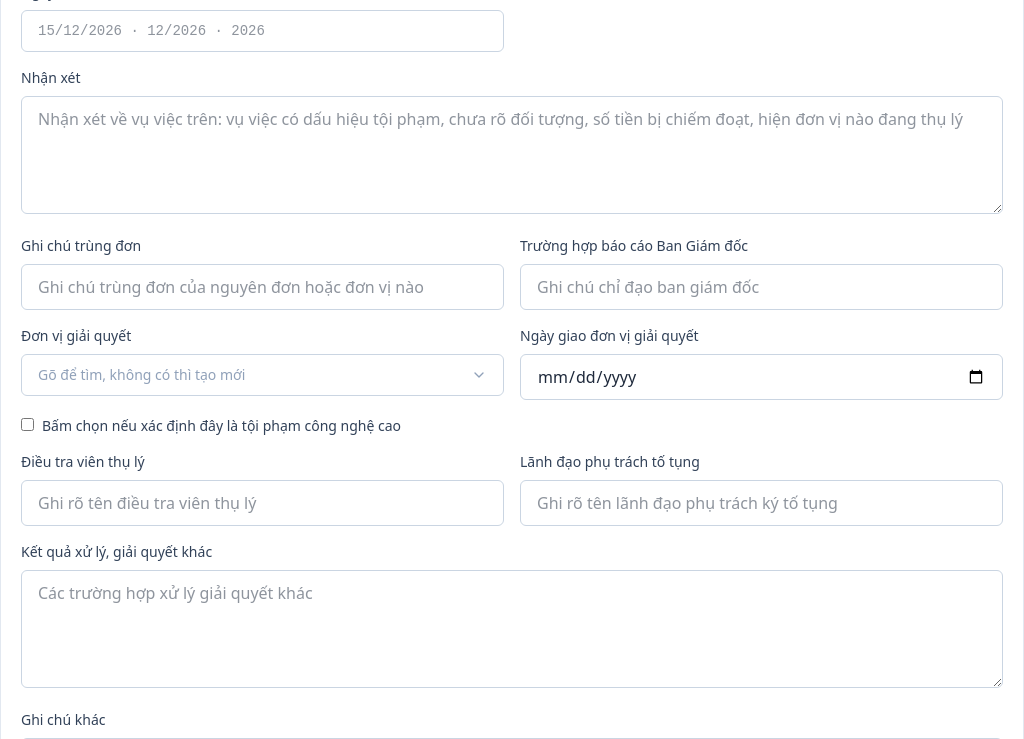
Ủy thác điều tra — tương tác như Đơn thư › cho phép cán bộ có quyền tạo Vụ án tạo nhanh đơn vị dù không có quyền tạo Đơn thư
The width and height of the screenshot is (1024, 739).
(page scrolled)
What coordinates should you click on to do the following:
click the dropdown with test id "field-supervisingUnit-trigger"
I would click on:
 (262, 375)
Its box is x1=21 y1=354 x2=504 y2=396.
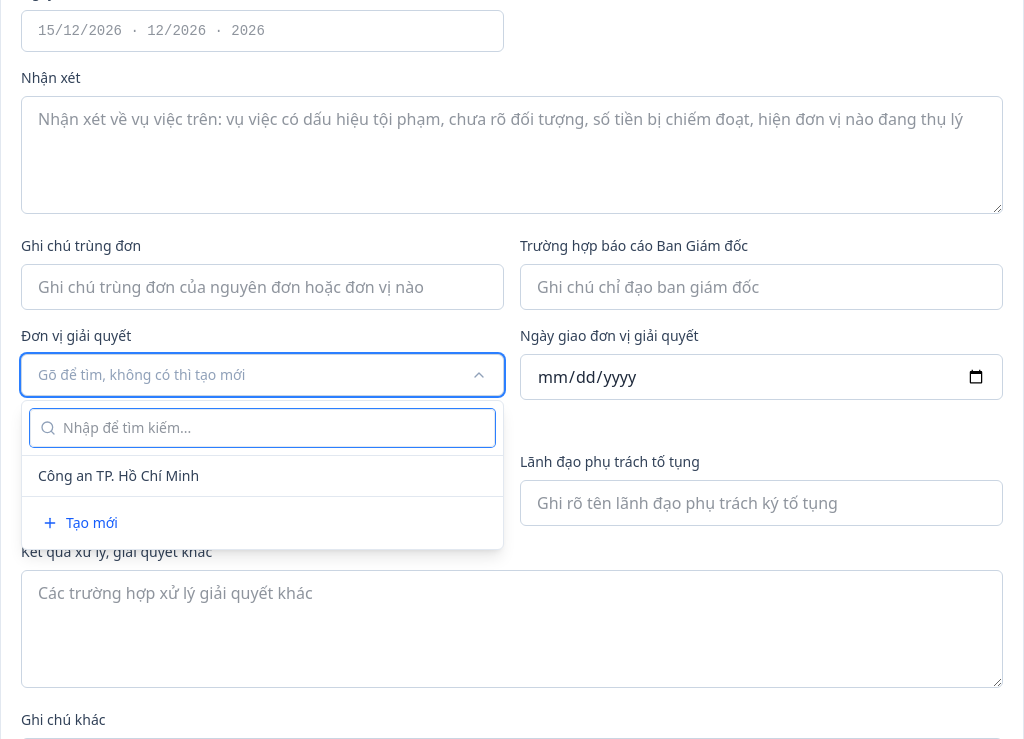
Check: the button with test id "field-supervisingUnit-create-new" is shown, box x1=30 y1=505 x2=495 y2=541
